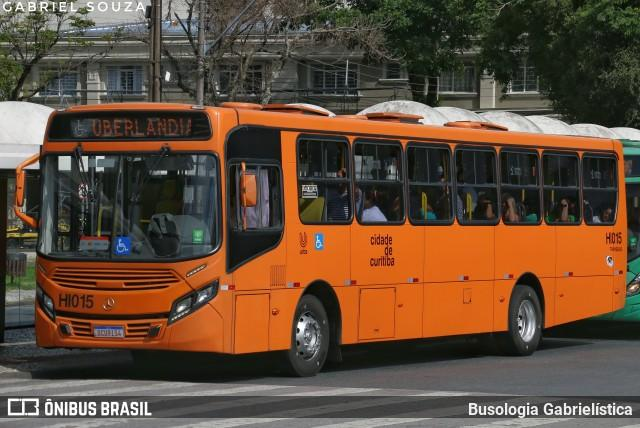UBERLANDIA: (88, 115, 196, 140)
